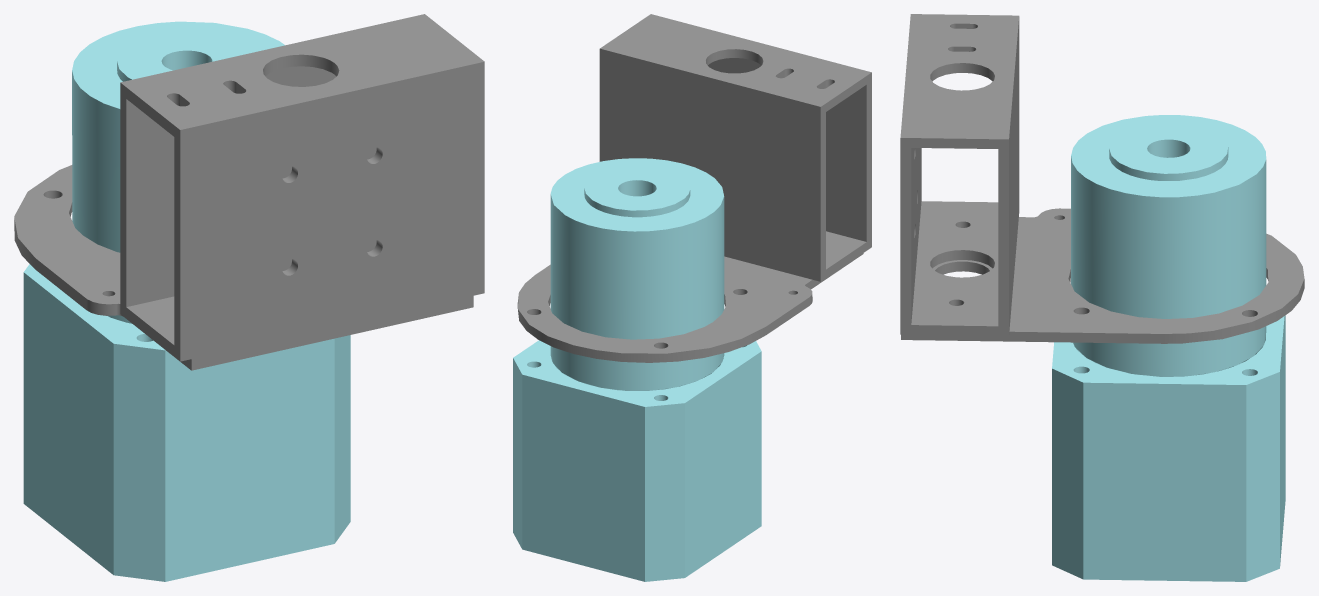
The model's file is M3_Yaxis.glb.
3 views of the same model, side by side, from view 1: azimuth 30°, elevation 25°; view 2: azimuth 150°, elevation 25°; view 3: azimuth 270°, elevation 25° (orthographic). The views are drawn at different scales.
Visible parts, largest first — view 1: M3_Yaxis; view 2: M3_Yaxis; view 3: M3_Yaxis.
Boxes of the visible parts, x1=… form: M3_Yaxis: x1=14, y1=14, x2=484, y2=581; M3_Yaxis: x1=513, y1=14, x2=871, y2=581; M3_Yaxis: x1=900, y1=14, x2=1304, y2=581.
Size of the model in its own units: 0.0557 by 0.092 by 0.0744.
